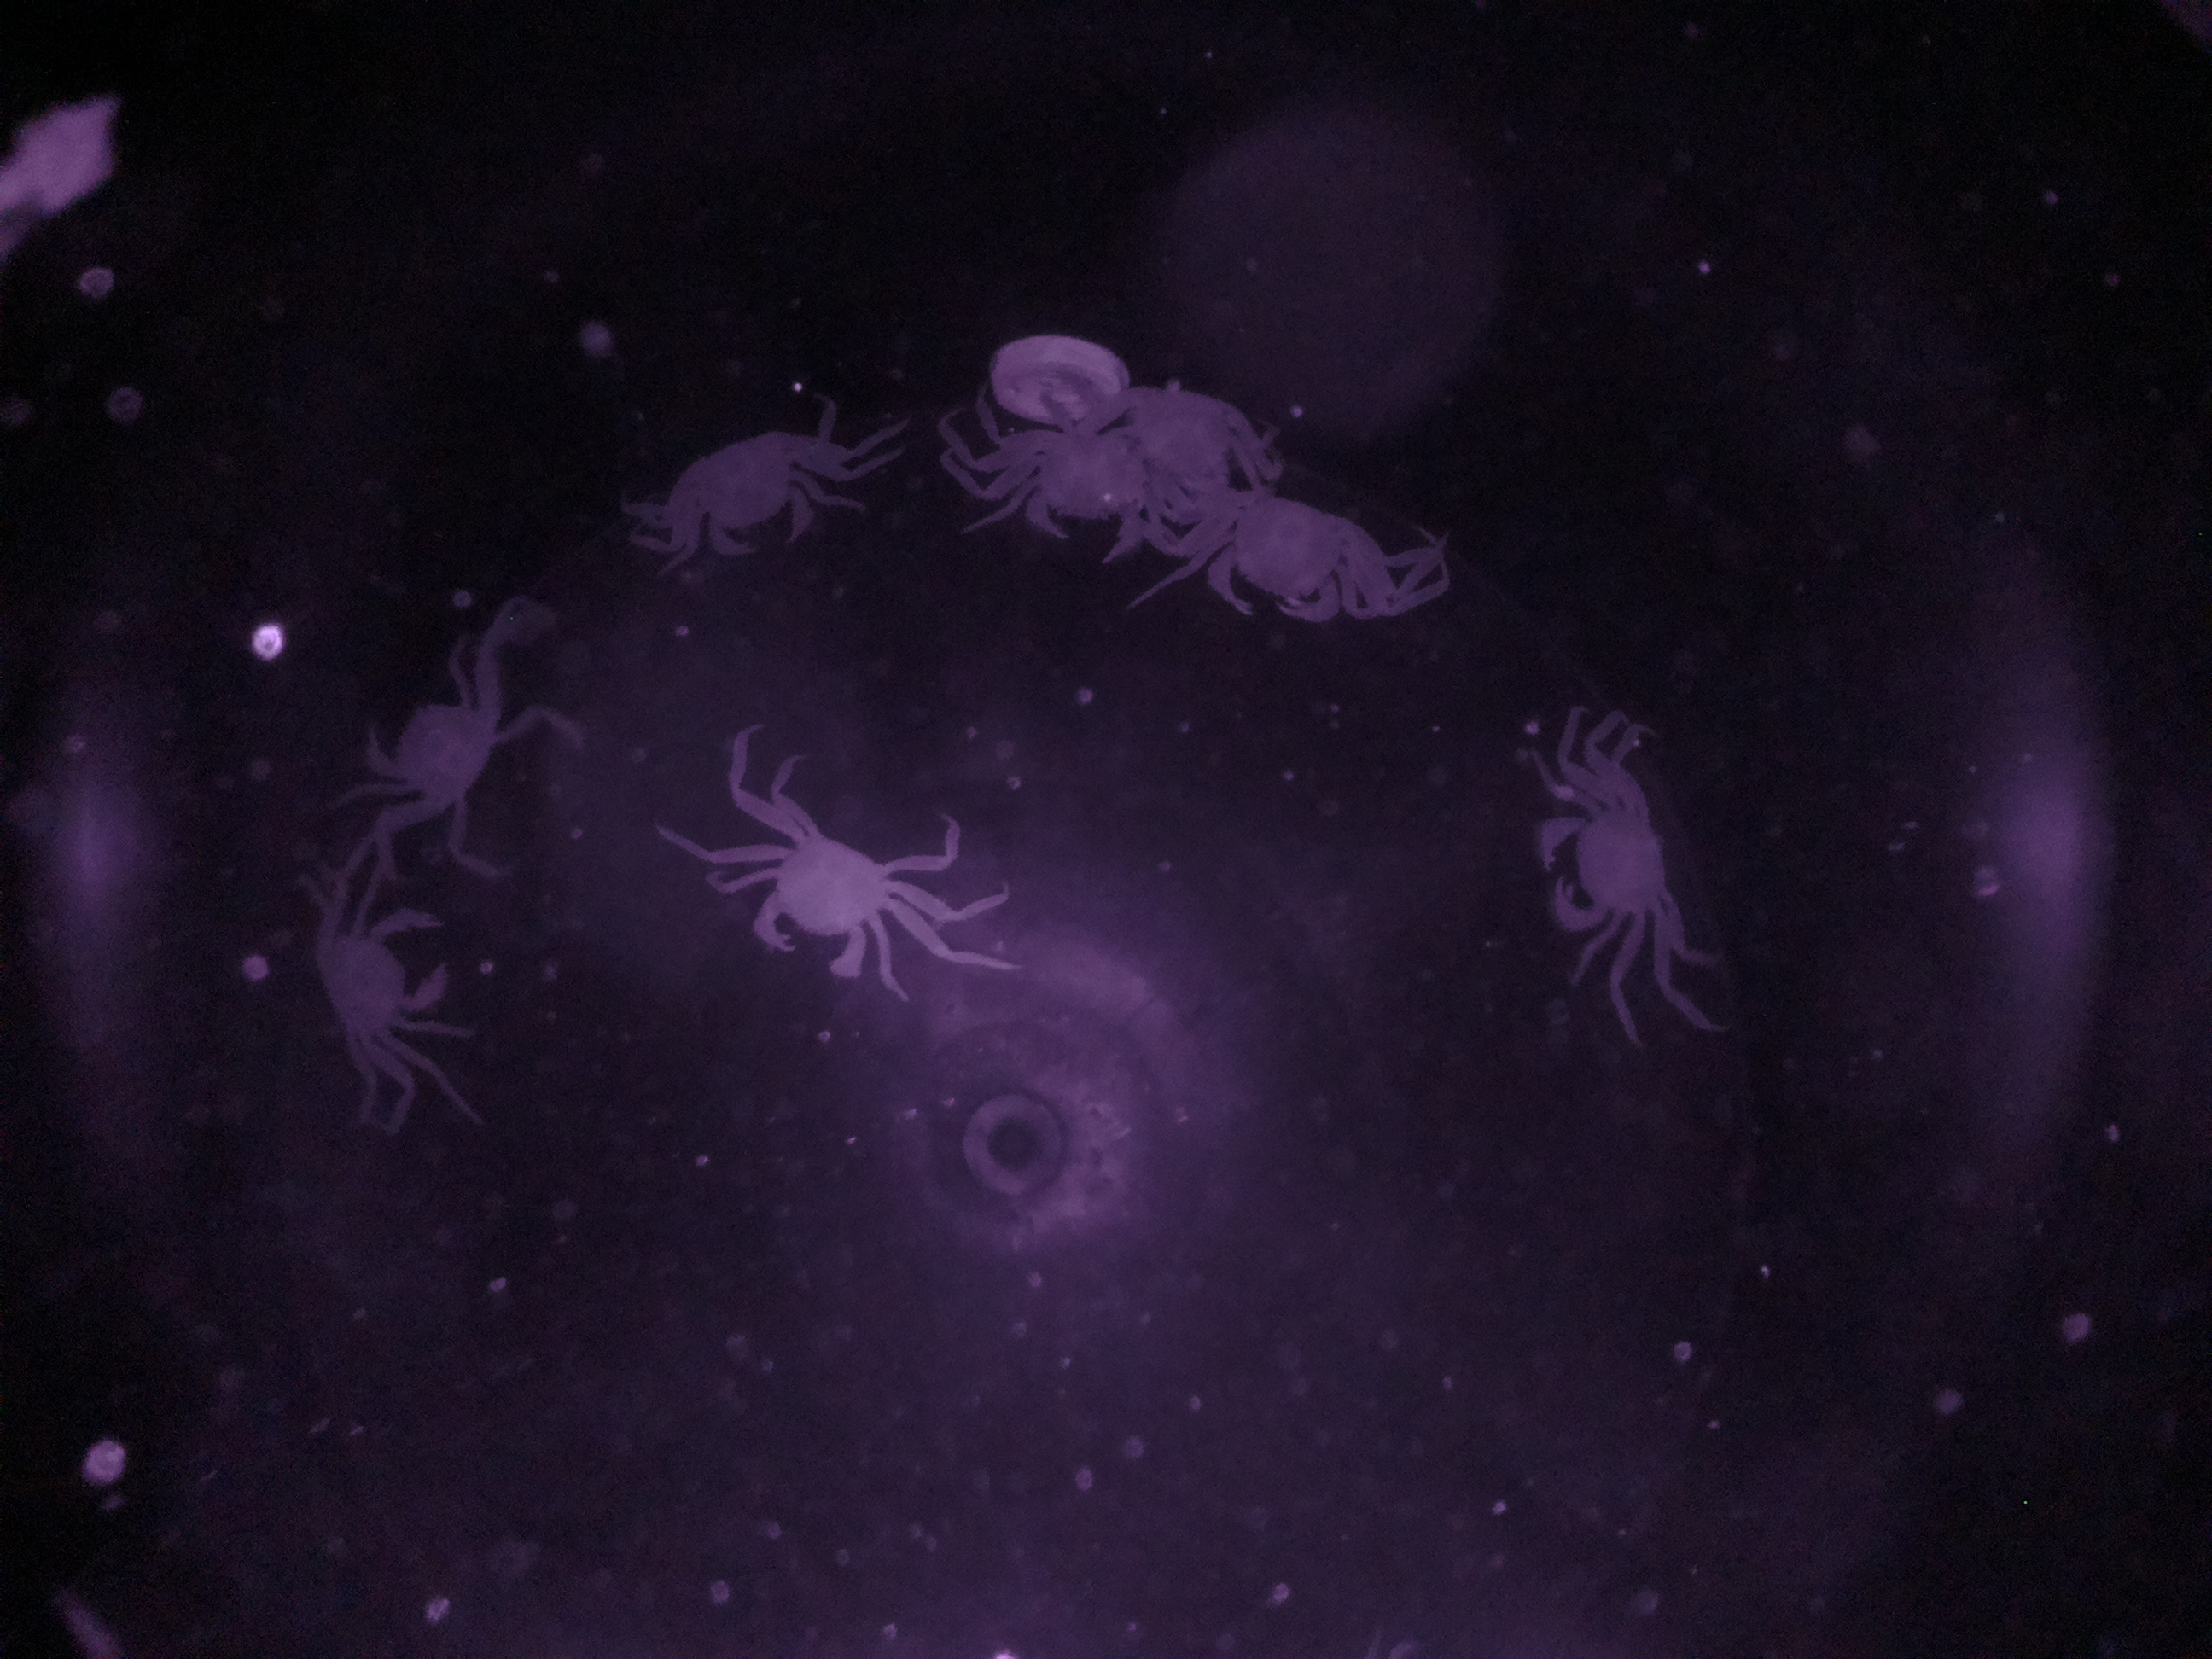Crab: (1524, 763, 1702, 1007), (719, 788, 906, 1019), (984, 390, 1186, 594), (289, 877, 491, 1072), (651, 408, 859, 573)
